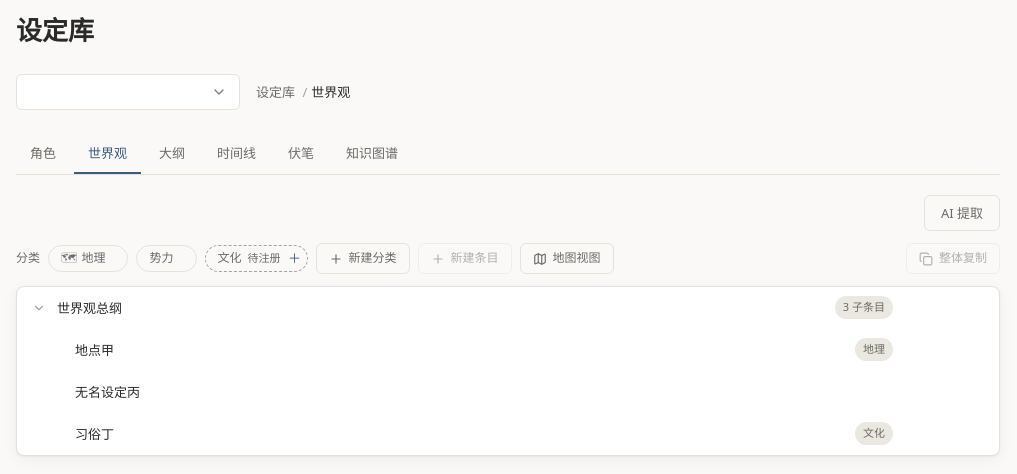
Test: #1334 ①C — abstract 分类条目移出列表页主树 › 取消选中 abstract 分类（再点同 chip）→ abstract 条目重新移出主树
Expected: the element with test id "world-node-root" is shown, left=29, top=296, right=893, bottom=319
Expected: the text "地点甲" is shown, left=75, top=341, right=114, bottom=359
Step 1. Click the button with test id "world-cat-filter-势力" → (162, 259), box left=150, top=248, right=174, bottom=269
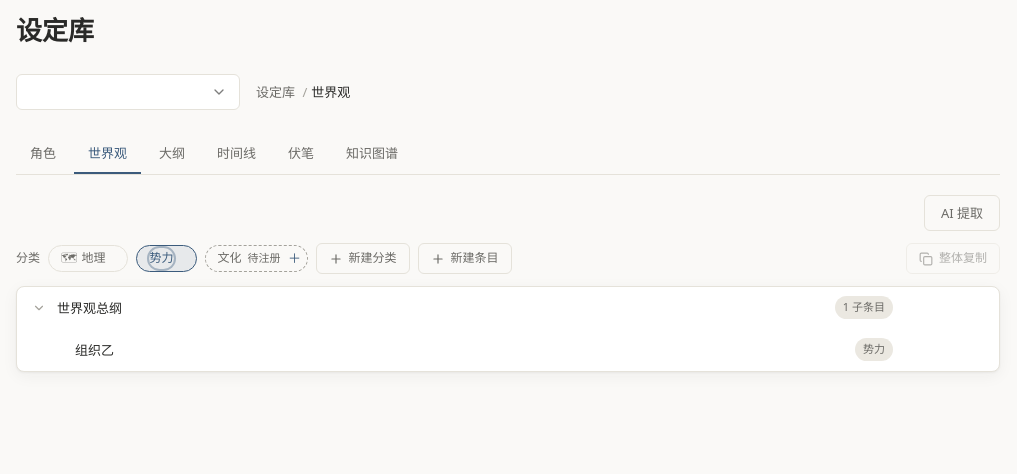
Expected: the text "组织乙" is shown, left=75, top=341, right=114, bottom=359
Step 2. Click the button with test id "world-cat-filter-势力" → (162, 259), box left=150, top=248, right=174, bottom=269
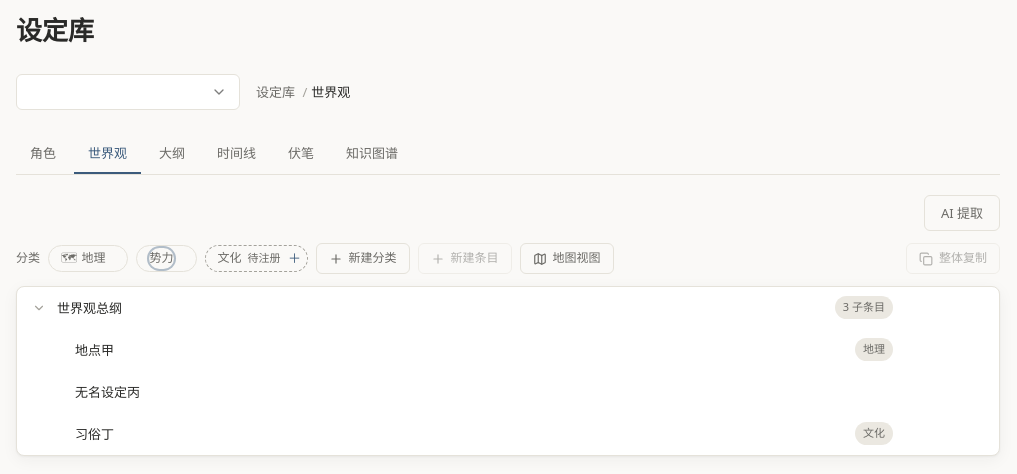
Expected: the text "组织乙" is gone
